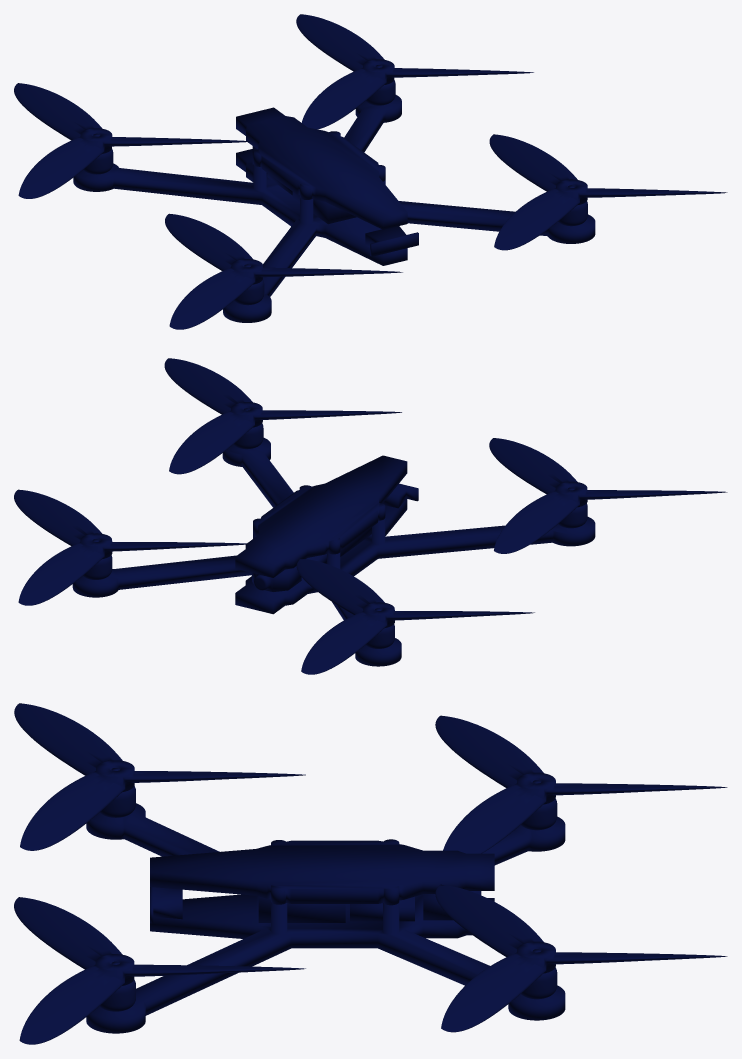
File: drone.dae
3 renders of one model, top to bottom at view 1: azimuth 30°, elevation 25°; view 2: azimuth 150°, elevation 25°; view 3: azimuth 270°, elevation 25°, orthographic. The views are drawn at different scales.
Visible parts, largest first — view 1: Drone_CAD v1 v5; view 2: Drone_CAD v1 v5; view 3: Drone_CAD v1 v5.
Boxes of the visible parts, box(x1,y1,x2,y2) form: Drone_CAD v1 v5: box(14, 14, 727, 329); Drone_CAD v1 v5: box(14, 358, 727, 674); Drone_CAD v1 v5: box(14, 703, 727, 1044).
Bounding box in the file's own units: 0.7282 × 0.6561 × 0.0615.
